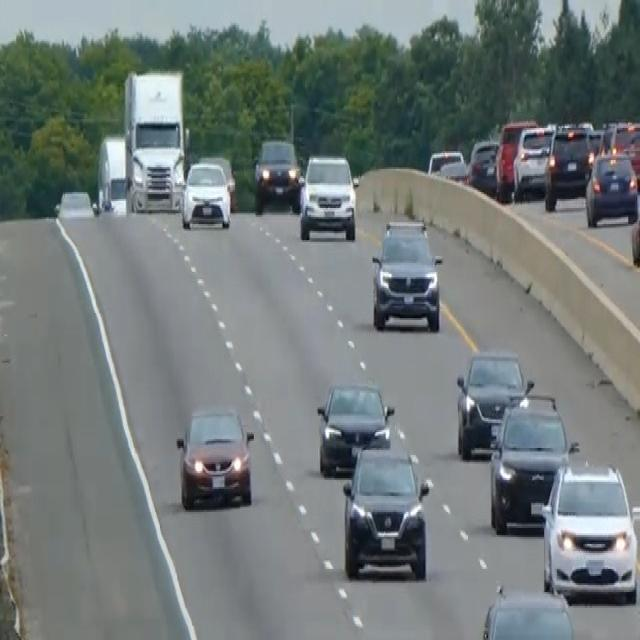car: (540, 454, 638, 604), (488, 389, 577, 534), (341, 442, 430, 580), (455, 346, 532, 458), (175, 402, 254, 510), (316, 378, 394, 474), (298, 151, 357, 242), (479, 582, 574, 638), (543, 123, 593, 210), (584, 149, 638, 226), (179, 158, 231, 230), (253, 135, 300, 213), (494, 117, 536, 199), (512, 123, 554, 199), (599, 119, 639, 192), (198, 153, 236, 208), (467, 137, 499, 194), (53, 188, 96, 218), (427, 148, 465, 178), (629, 183, 639, 270)
jeep: (370, 215, 443, 333)
lorry: (122, 68, 188, 214)
